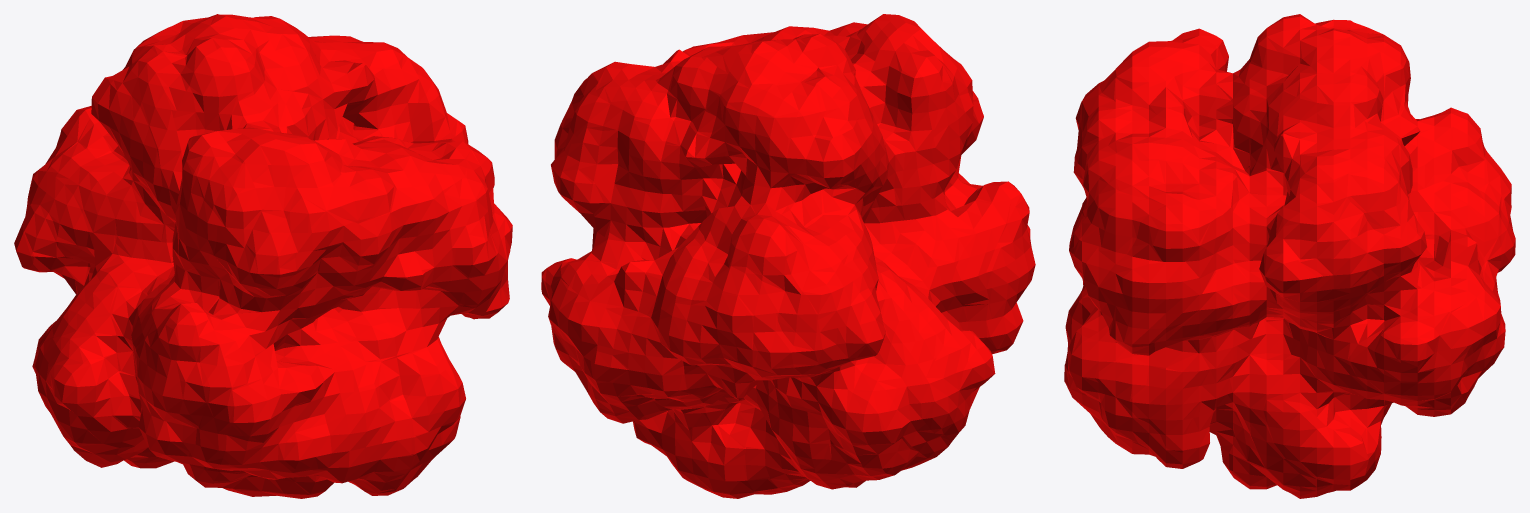
File: panB_coarse.dae
3 renders of one model, left to right at view 1: azimuth 30°, elevation 25°; view 2: azimuth 150°, elevation 25°; view 3: azimuth 270°, elevation 25°, orthographic. The views are drawn at different scales.
Visible parts, largest first — view 1: panB; view 2: panB; view 3: panB.
Boxes of the visible parts, x1,y1,x2,y2 form: panB: (14, 14, 512, 498); panB: (541, 14, 1035, 498); panB: (1064, 14, 1515, 498).
Size of the model in its own units: 108 by 117 by 107.
